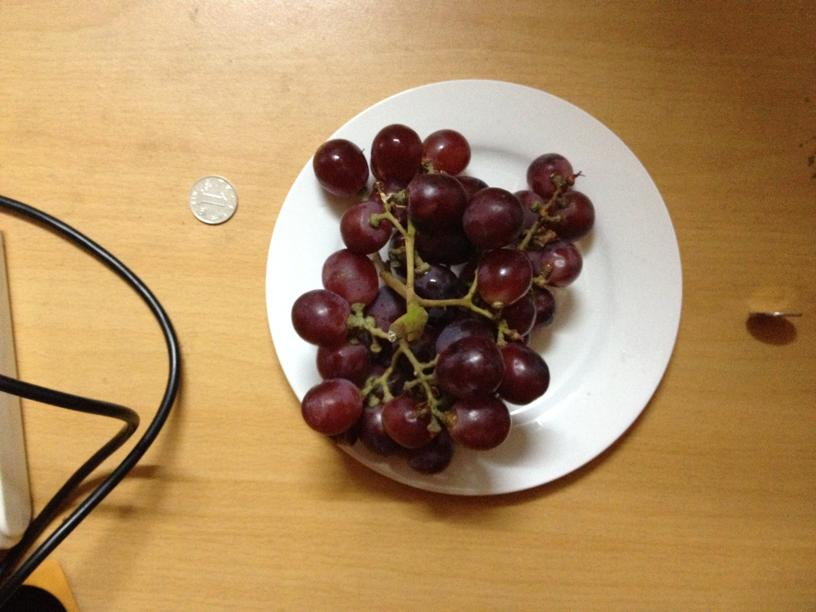coin: (189, 174, 237, 226)
grape: (285, 124, 596, 472)
